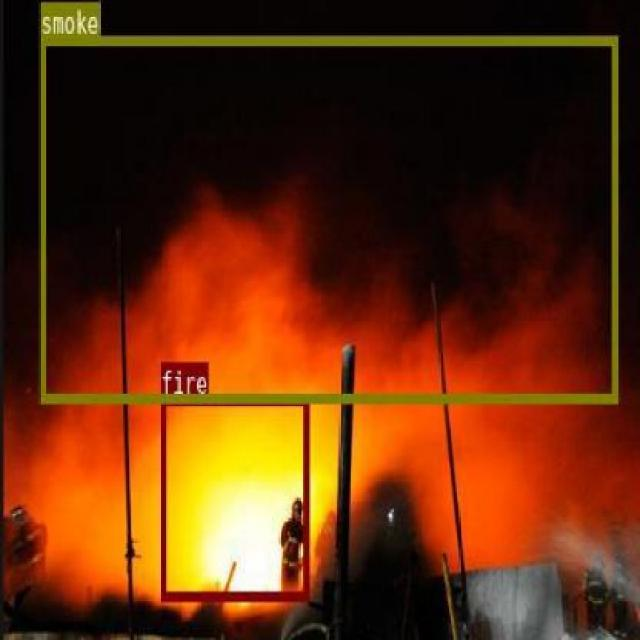fire: (160, 394, 308, 600)
smoke: (39, 34, 616, 400)
